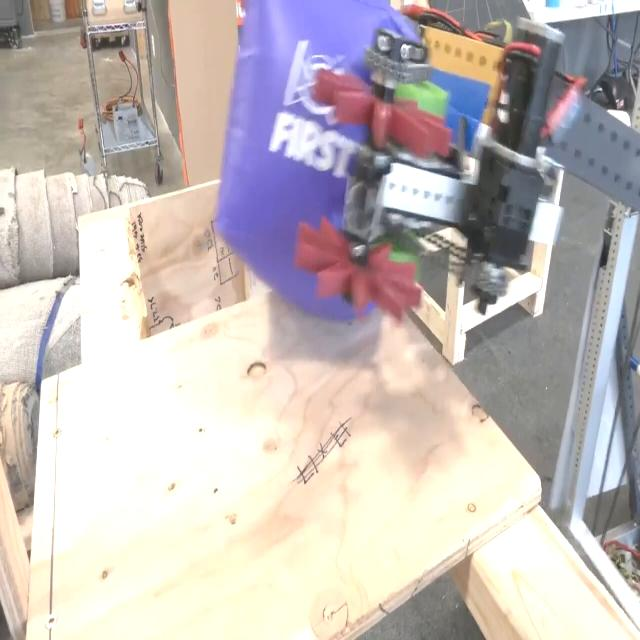frc_cube: (210, 0, 423, 338)
